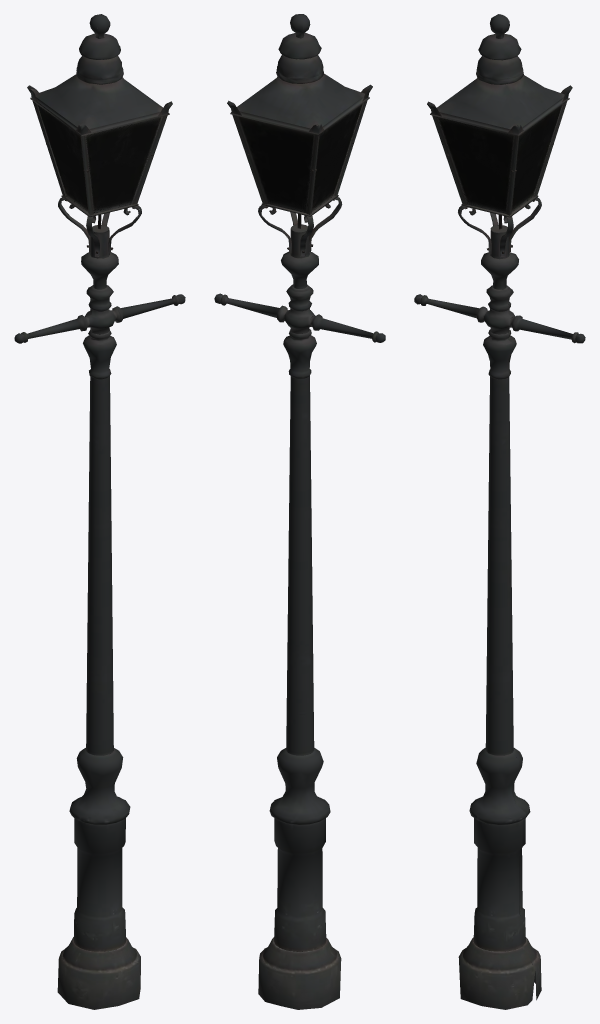
File: lantern.glb
The picture shows the model from 3 angles, left to right: view 1: azimuth 30°, elevation 25°; view 2: azimuth 150°, elevation 25°; view 3: azimuth 330°, elevation 25°; orthographic projection.
Parts seen in each view (by area): view 1: street_lamp_01; view 2: street_lamp_01; view 3: street_lamp_01.
Boxes of the visible parts, x1=… form: street_lamp_01: x1=14, y1=14, x2=185, y2=1009; street_lamp_01: x1=214, y1=14, x2=385, y2=1009; street_lamp_01: x1=414, y1=14, x2=585, y2=1009.
Bounding box in the file's own units: 0.0102 × 0.056 × 0.00555.
Materials: 3 (3 with a texture image).
